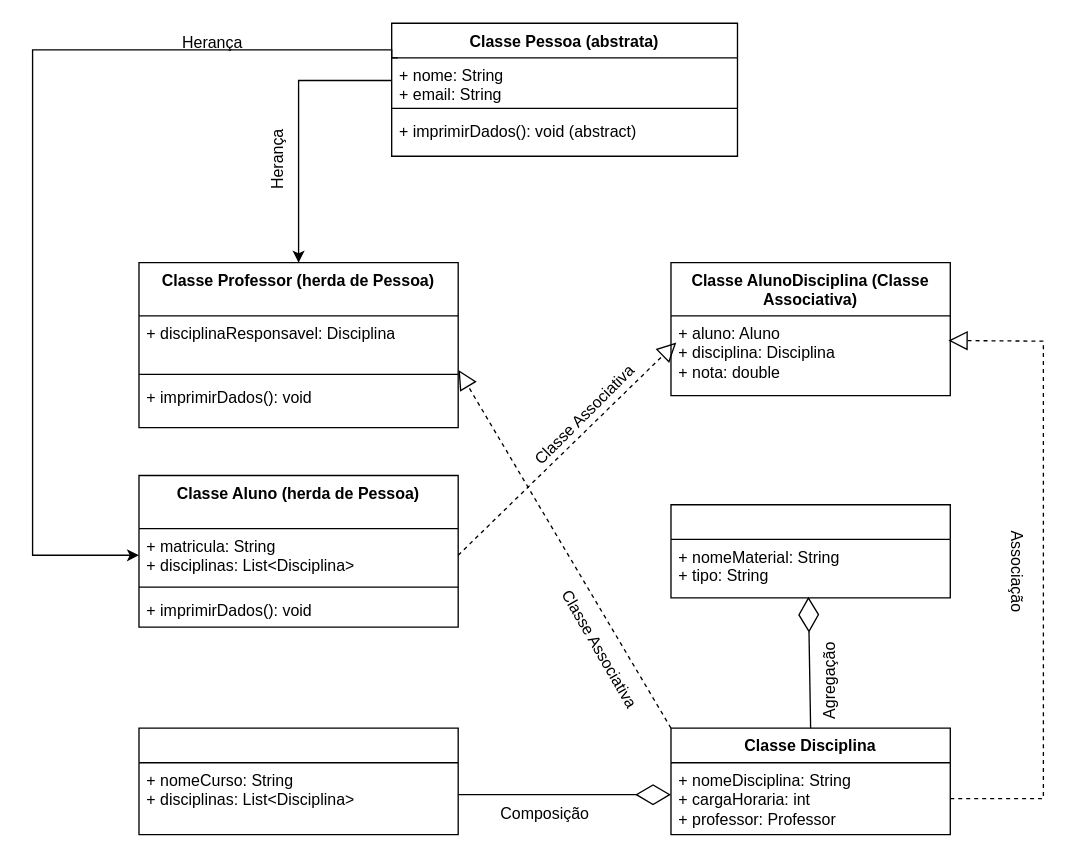
The diagram is 1085 pixels wide and 862 high, and some of its shapes have lost their labels. The shapes that lost their labels are listed below. From the top down, each one's box as (x1, y1, x2, y2) in pixels, then its label:
(670, 503, 950, 598): Classe Material
(138, 727, 458, 835): Classe Curso
